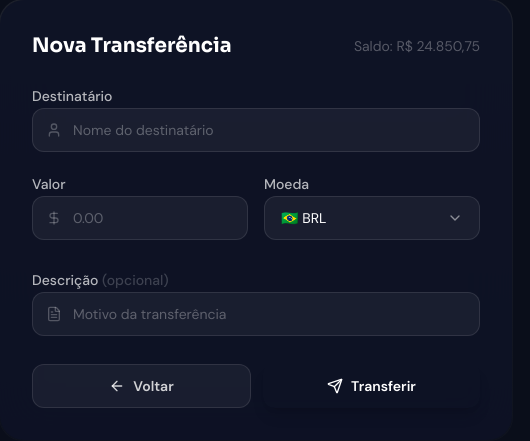
Scenario: TransferForm › exibe erro ao submeter com valor 0
Step 1. Type "Carlos" into the field labelled "Destinatário" → point(256, 130), box [32, 108, 480, 152]
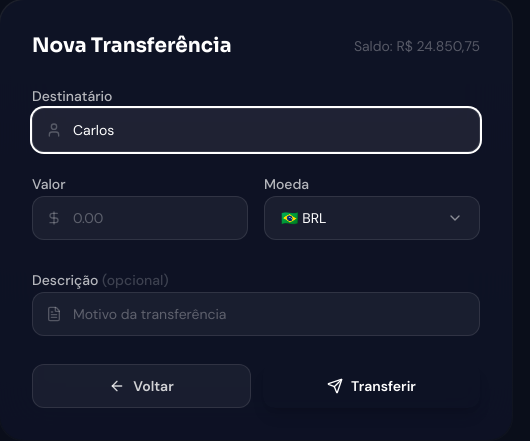
Step 2. Type "0" into the number field labelled "Valor" → point(140, 218), box [32, 196, 248, 240]
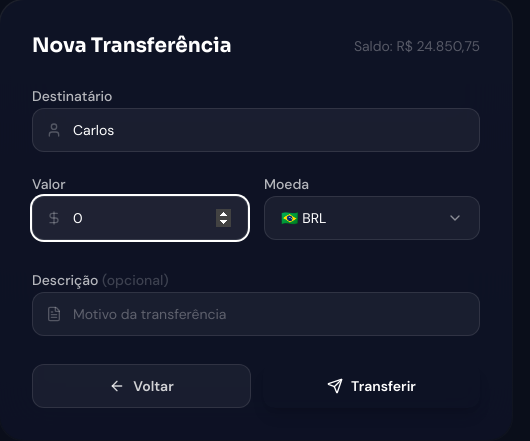
Step 3. Click the button "Transferir" → point(372, 386), box [263, 364, 480, 408]
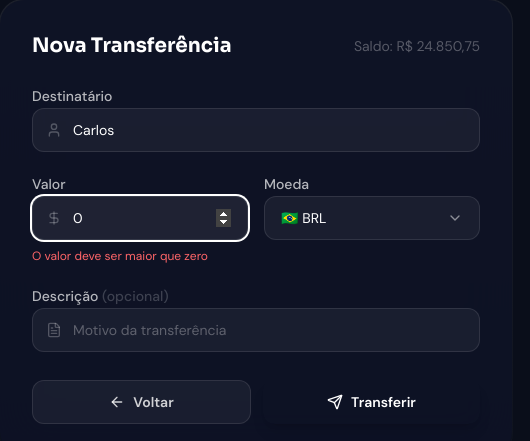
Now the text "O valor deve ser maior que zero" is shown, box [32, 248, 208, 264]
